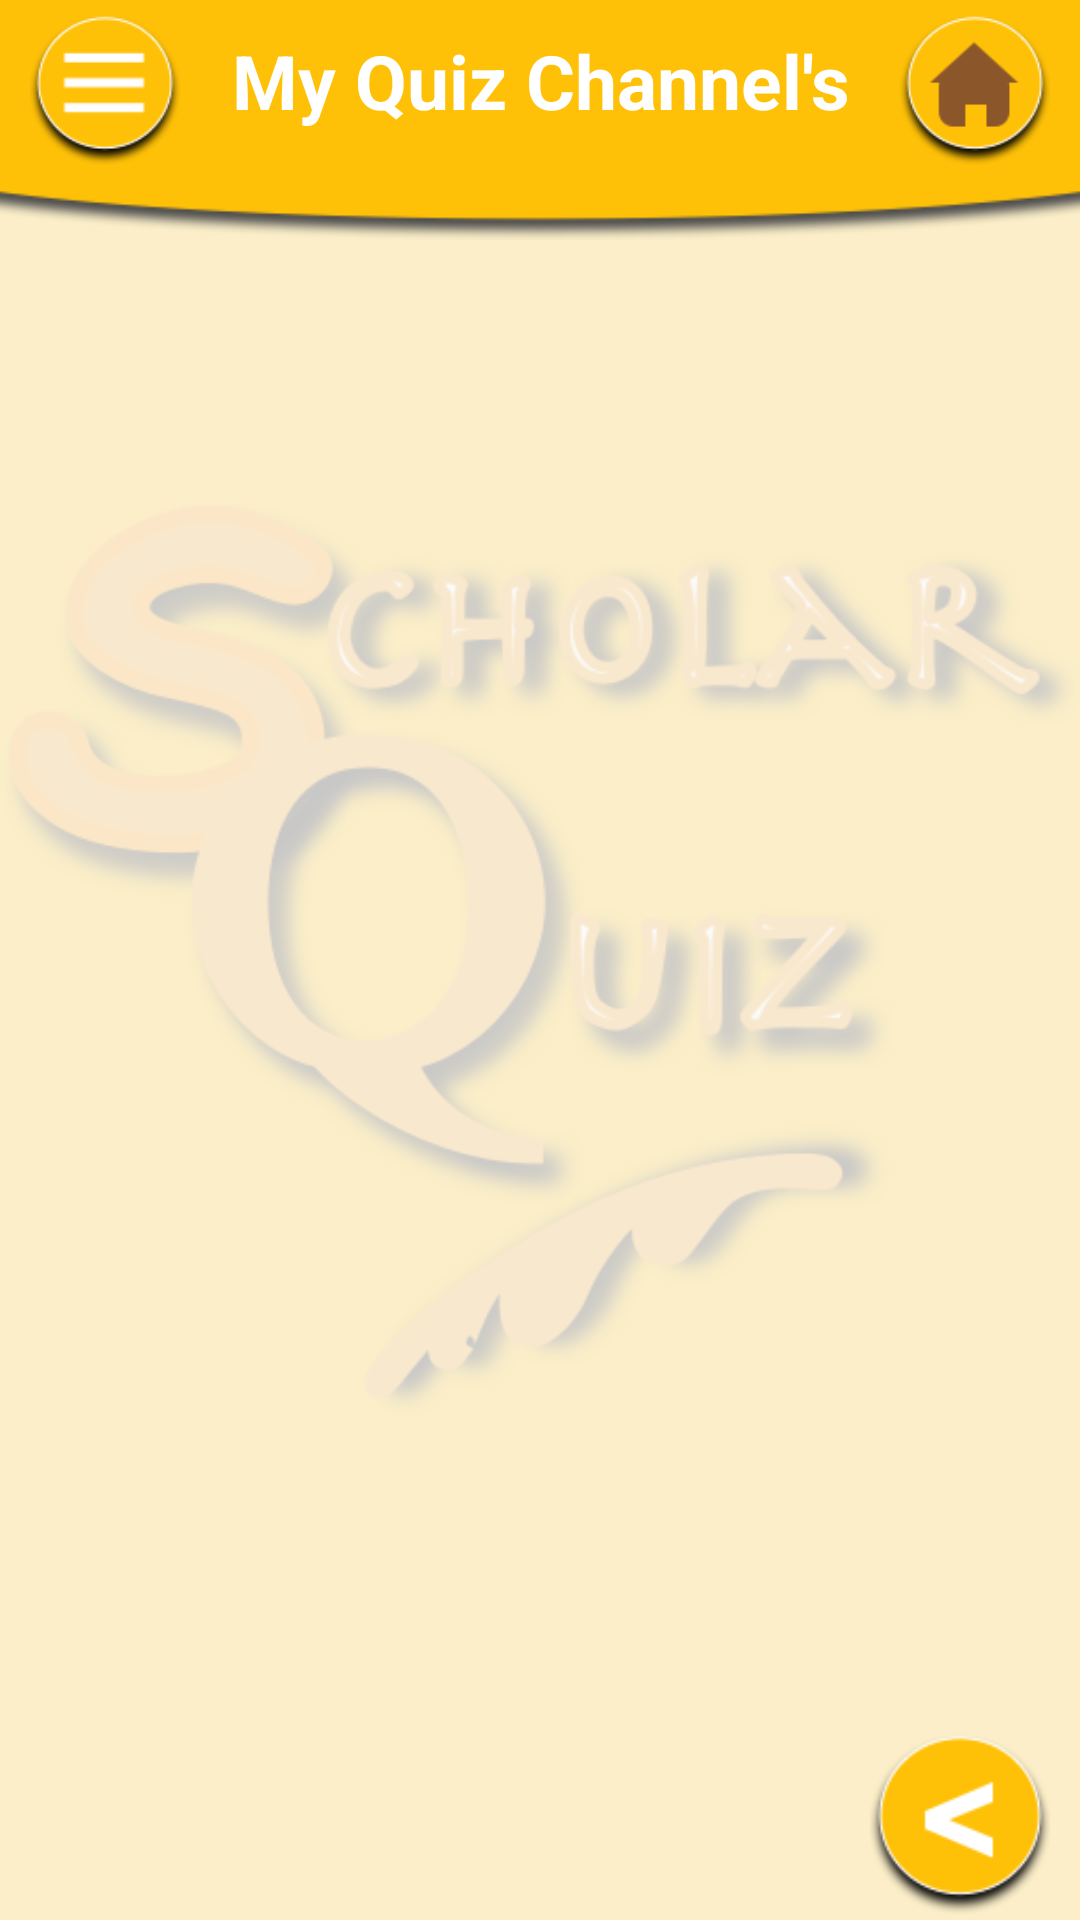

Icon bounding boxes for this 1080px x 1920px phone screenshot, format (x1, y1, x2, y2):
backbutton: (873, 1738, 1047, 1910)
home brown: (903, 16, 1047, 162)
menubutton: (33, 16, 177, 162)
